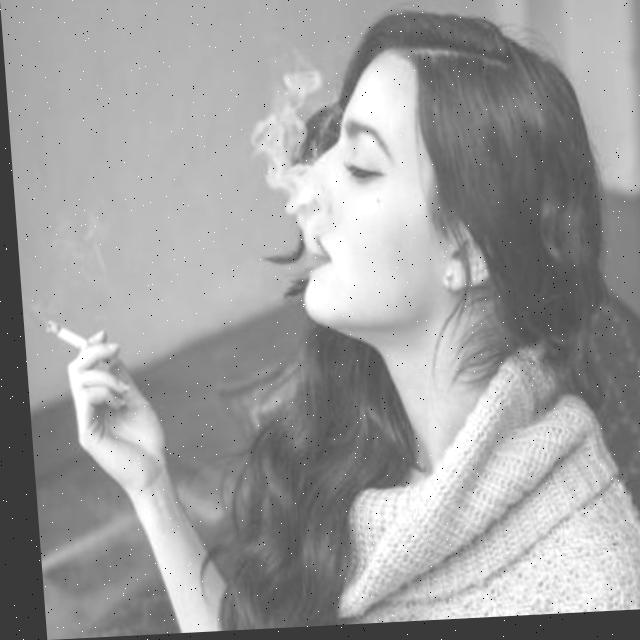cigarette: (39, 318, 84, 355)
